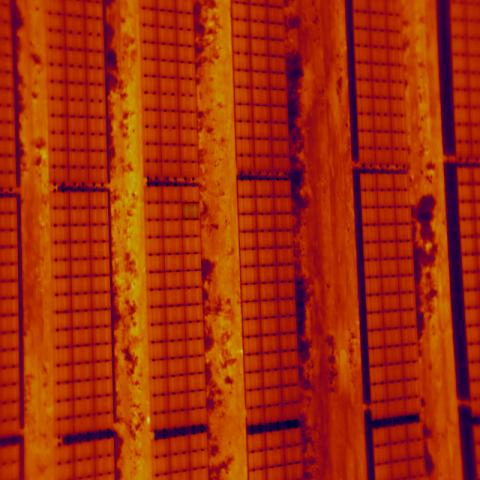fault: (182, 202, 199, 220)
